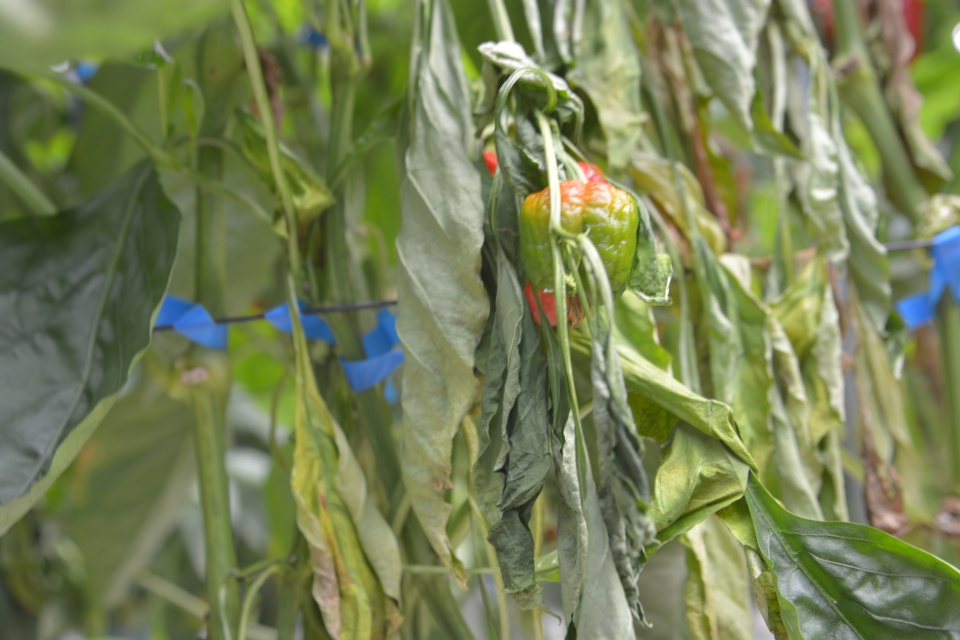fruit: (517, 178, 641, 309)
